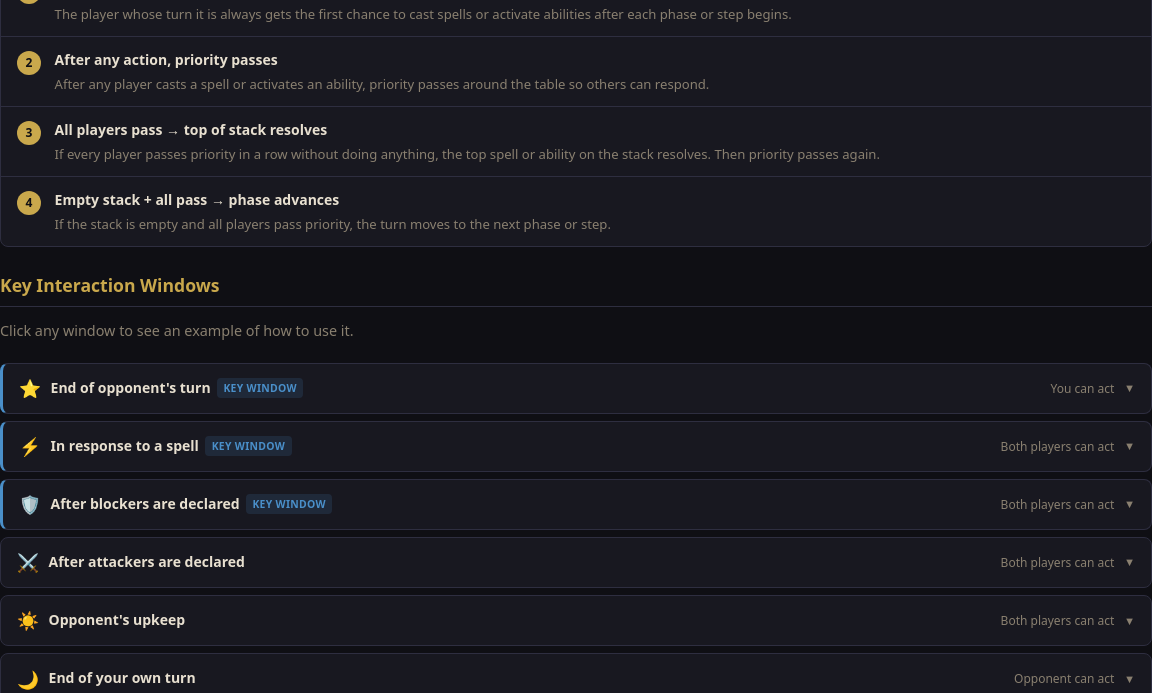
Test: TimingGuide › expanding an interaction window shows body
(page scrolled)
Click the text "End of opponent's turn": (131, 388) [50,377,211,399]
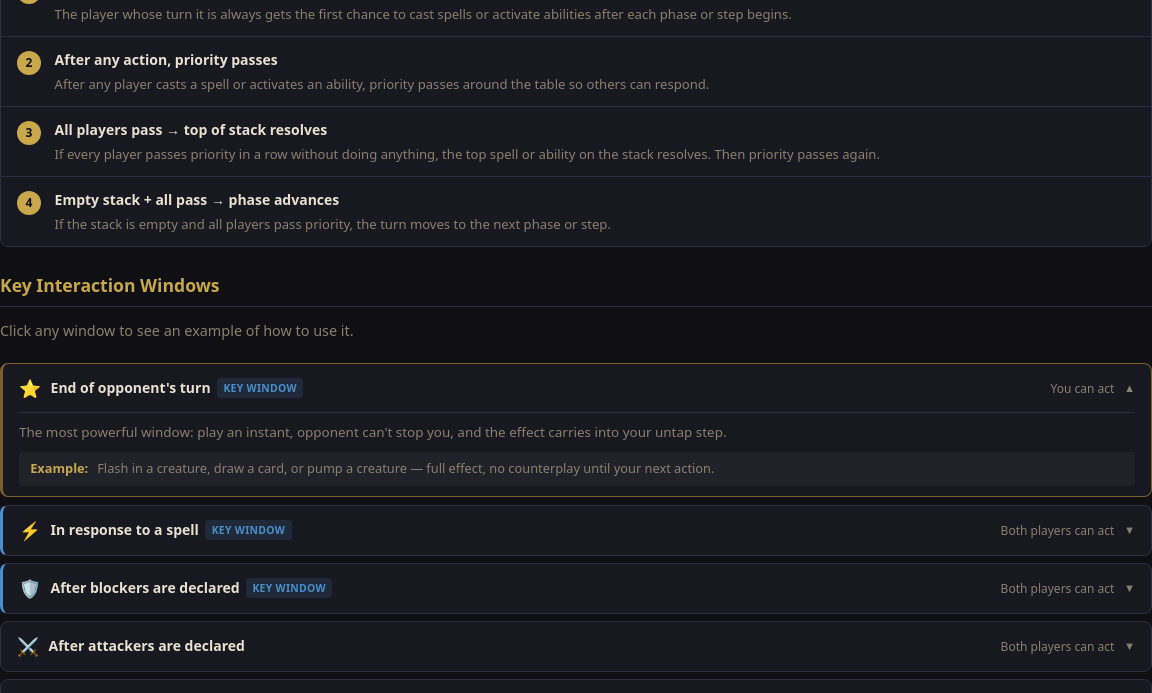
Now the text "Example:" is shown, box [30,459,88,477]
